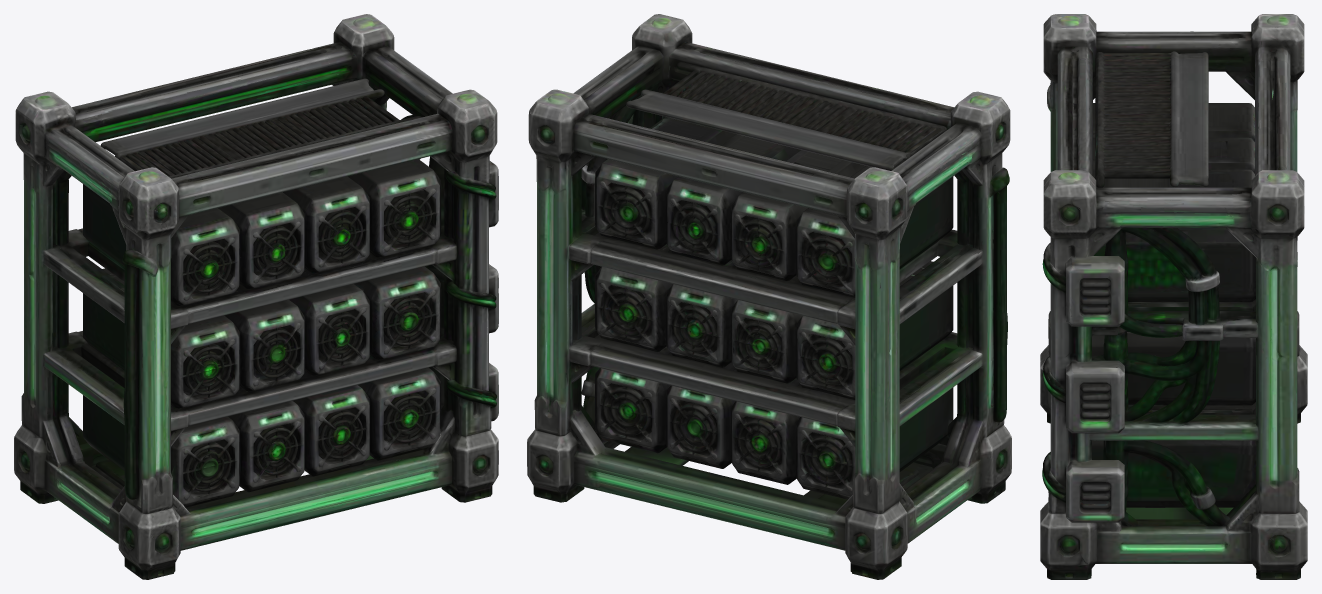
The model's file is mining-rig.glb.
3 views of the same model, side by side, from view 1: azimuth 30°, elevation 25°; view 2: azimuth 150°, elevation 25°; view 3: azimuth 270°, elevation 25° (orthographic).
Visible parts, largest first — view 1: material; view 2: material; view 3: material.
Boxes of the visible parts, left/top/right/bottom form: material: left=14, top=14, right=498, bottom=579; material: left=527, top=14, right=1011, bottom=579; material: left=1040, top=14, right=1307, bottom=579.
Size of the model in its own units: 0.8056 by 0.8073 by 0.4926.
1 material, 1 textured.
